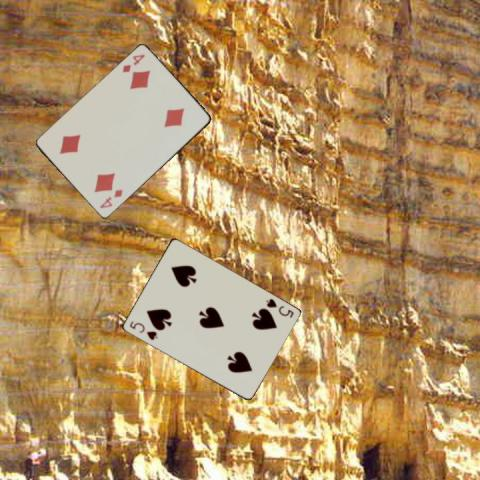4d: (119, 51, 147, 74), (97, 187, 124, 210)
5s: (126, 317, 159, 342), (262, 296, 294, 320)
